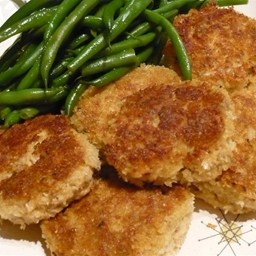background: (0, 0, 102, 102)
